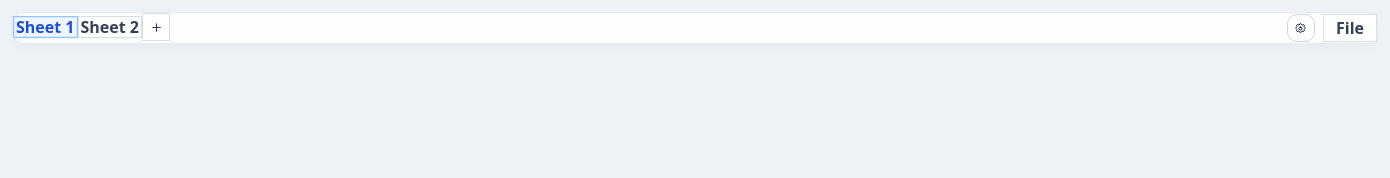
Test case: SheetTabs › disables mass sheet actions while renaming is active
Right-click the tab "Sheet 1" at (45, 27), box [16,19,74,35]
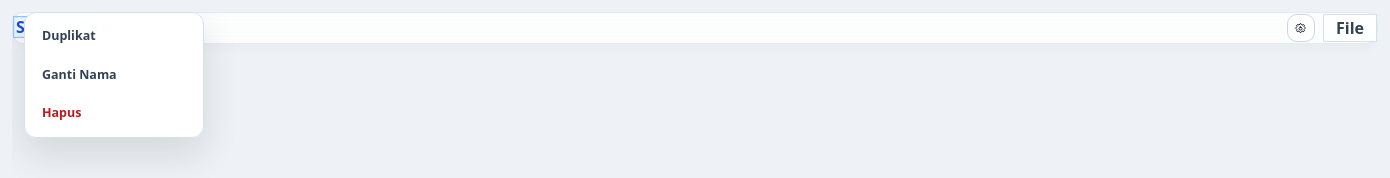
Click the menu item "Ganti Nama" at (114, 75), box [31,58,197,92]
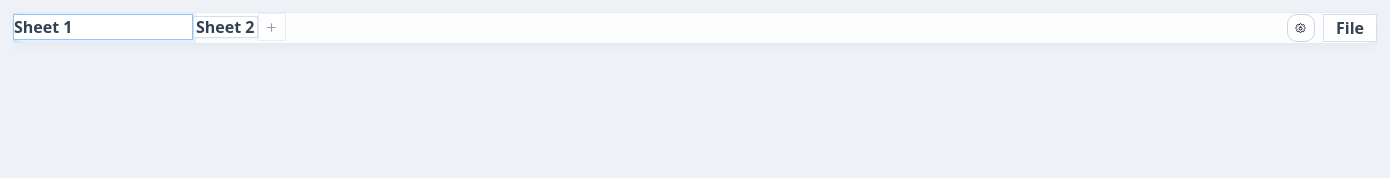
Expected: the button named "Sheet Baru" is disabled, [258,13,286,41]
Now the menu item "Duplikat" is gone
Now the menu item "Hapus" is gone
